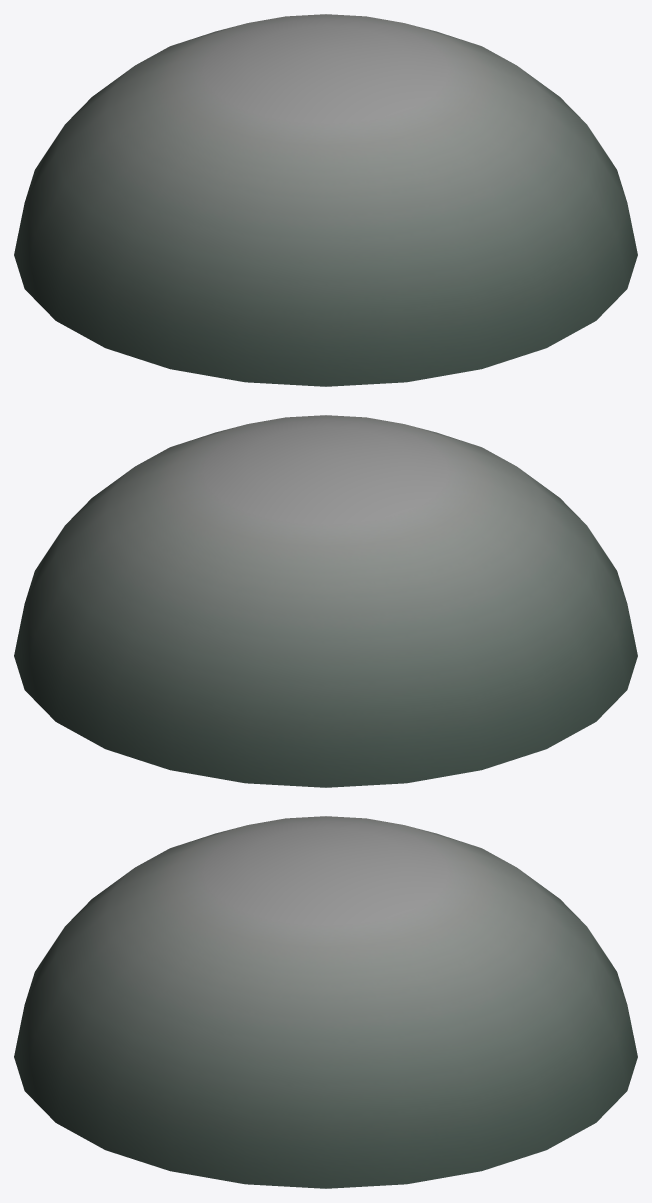
Rendered from sky_02 #1112545.fbx.
3 views of the same model, one above another, from view 1: azimuth 30°, elevation 25°; view 2: azimuth 150°, elevation 25°; view 3: azimuth 270°, elevation 25° (orthographic).
Visible parts, largest first — view 1: sky_02; view 2: sky_02; view 3: sky_02.
Boxes of the visible parts, left/top/right/bottom form: sky_02: left=14, top=14, right=637, bottom=386; sky_02: left=14, top=415, right=637, bottom=787; sky_02: left=14, top=816, right=637, bottom=1188.
Bounding box in the file's own units: 2106 × 752 × 2106.
